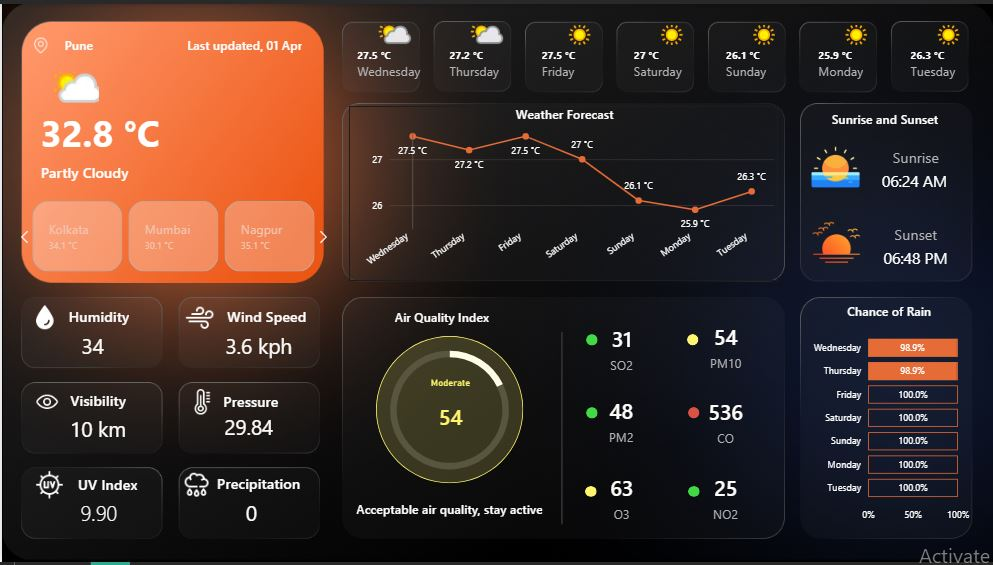

The dashboard page shown, as its layout file describes it:
{"tool":"powerbi","page":{"name":"Page 1","canvas":[1280,720],"ordinal":0},"visuals":[{"type":"donutChart","fields":{"Y":["Sum(Current.current.air_quality.pm10)","_Measures.left_value_PM"]},"box":[450,422.9,254.3,201.4],"z":0},{"type":"shape","box":[482.9,428.6,190,190],"z":1000},{"type":"advancedSlicerVisual","fields":{"Values":["Location.location.name"]},"box":[14.5,248.7,416.4,101.2],"z":2000},{"type":"shape","box":[49.7,114,255.7,103.7],"z":3000},{"type":"shape","box":[49.7,190,336.1,55.5],"z":4000},{"type":"shape","box":[57,26.3,84.7,55.5],"z":5000},{"type":"shape","box":[222.1,26.3,182.6,55.5],"z":6000},{"type":"image","box":[39.5,38,20.5,32.1],"z":7000},{"type":"cardVisual","fields":{"Data":["Min(Current.current.condition.icon)"]},"box":[49.7,70.1,92.1,78.9],"z":8000},{"type":"image","box":[39,497.3,39,33.3],"z":9000},{"type":"shape","box":[62.2,494.5,124.3,33.3],"z":10000},{"type":"image","box":[39,386,33.3,37.6],"z":11000},{"type":"image","box":[231.3,386,47.7,37.6],"z":12000},{"type":"image","box":[39,601.4,44.8,37.6],"z":13000},{"type":"image","box":[227,601.4,47.7,37.6],"z":14000},{"type":"image","box":[237.1,497.3,41.9,33.3],"z":15000},{"type":"shape","box":[78.1,601.4,115.7,37.6],"z":16000},{"type":"shape","box":[53.5,386,144.6,33.3],"z":17000},{"type":"shape","box":[279,386,125.8,33.3],"z":18000},{"type":"shape","box":[268.9,494.5,105.5,36.1],"z":19000},{"type":"shape","box":[268.9,601.4,125.8,34.7],"z":20000},{"type":"card","fields":{"Values":["Sum(Current.current.humidity)"]},"box":[49.2,423.6,135.9,39],"z":21000},{"type":"card","fields":{"Values":["_Measures.Wind_Speed"]},"box":[268.9,423.6,125.8,39],"z":22000},{"type":"card","fields":{"Values":["_Measures.Visibility"]},"box":[69.4,530.6,108.4,39],"z":23000},{"type":"card","fields":{"Values":["Sum(Current.current.pressure_in)"]},"box":[255.9,527.7,125.8,39],"z":24000},{"type":"card","fields":{"Values":["Sum(Current.current.uv)"]},"box":[62.2,639,125.8,39],"z":25000},{"type":"card","fields":{"Values":["Sum(Current.current.precip_in)"]},"box":[274.7,639,94,39],"z":26000},{"type":"advancedSlicerVisual","fields":{"Values":["Forcast_Day.Day_Name"]},"box":[441,26,838.6,88.2],"z":27000},{"type":"lineChart","title":"Weather Forecast ","fields":{"Y":["Sum(Forcast_Day.forecast.forecastday.day.avgtemp_c)"],"Category":["Forcast_Day.Day_Name"]},"box":[448.2,131.6,553.7,225.5],"z":28000},{"type":"shape","box":[1067,131.6,144.6,33.3],"z":29000},{"type":"shape","box":[1120.5,205.3,114.2,44.8],"z":30000},{"type":"shape","box":[1120.5,305.1,117.1,44.8],"z":31000},{"type":"shape","box":[1137.8,174.9,82.4,44.8],"z":32000},{"type":"shape","box":[1137.8,274.7,82.4,44.8],"z":33000},{"type":"image","box":[1033.7,273.3,86.7,68],"z":34000},{"type":"image","box":[1033.7,179.3,83.9,62.2],"z":35000},{"type":"hundredPercentStackedBarChart","title":"Chance of Rain","fields":{"Category":["Forcast_Day.Day_Name"],"Y":["Sum(Forcast_Day.forecast.forecastday.day.daily_chance_of_rain)","Current.Left_value_Rain"]},"box":[1033.7,386,219.8,292],"z":36000},{"type":"shape","box":[495.9,387.5,144.6,33.3],"z":37000},{"type":"card","fields":{"Values":["Sum(Current.current.air_quality.pm10)"]},"box":[883.7,403.5,99.8,75.2],"z":38000},{"type":"card","fields":{"Values":["Sum(Current.current.air_quality.co)"]},"box":[883.7,500.4,99.8,75.2],"z":39000},{"type":"card","fields":{"Values":["Sum(Current.current.air_quality.no2)"]},"box":[883.7,598.7,99.8,75.2],"z":40000},{"type":"card","fields":{"Values":["Sum(Current.current.air_quality.so2)"]},"box":[749.2,406.4,99.8,75.2],"z":41000},{"type":"card","fields":{"Values":["Sum(Current.current.air_quality.pm2_5)"]},"box":[753.6,497.5,91.1,78.1],"z":42000},{"type":"card","fields":{"Values":["Sum(Current.current.air_quality.o3)"]},"box":[749.2,598.7,99.8,75.2],"z":43000},{"type":"shape","box":[884.1,426.4,14.8,14.8],"z":44000},{"type":"shape","box":[884.6,520.5,14.8,14.8],"z":45000},{"type":"shape","box":[884.6,621.3,15.3,14.1],"z":46000},{"type":"shape","box":[754.1,520.2,15.3,15.3],"z":47000},{"type":"shape","box":[754.1,425.9,15.3,15.3],"z":48000},{"type":"shape","box":[752.9,621.3,15.3,14.1],"z":49000},{"type":"shape","box":[648.2,423.5,149.4,248.2],"z":50000},{"type":"card","fields":{"Values":["Sum(Current.current.air_quality.pm10)"]},"box":[517.1,481.4,122.9,91.4],"z":51000},{"type":"shape","box":[450,624.3,254.3,52.9],"z":51001}]}

Visuals, with their boxes in screenshot pixels (x1, y1, x2, y2), scaled from the page's 1280x720 canvas onto the 993x565 screenshot:
donutChart - Sum(Current.current.air_quality.pm10) x _Measures.left_value_PM: 349, 332, 546, 490
shape: 375, 336, 522, 485
advancedSlicerVisual - Location.location.name: 11, 195, 334, 275
shape: 39, 89, 237, 171
shape: 39, 149, 299, 193
shape: 44, 21, 110, 64
shape: 172, 21, 314, 64
image: 31, 30, 47, 55
cardVisual - Min(Current.current.condition.icon): 39, 55, 110, 117
image: 30, 390, 61, 416
shape: 48, 388, 145, 414
image: 30, 303, 56, 332
image: 179, 303, 216, 332
image: 30, 472, 65, 501
image: 176, 472, 213, 501
image: 184, 390, 216, 416
shape: 61, 472, 150, 501
shape: 42, 303, 154, 329
shape: 216, 303, 314, 329
shape: 209, 388, 290, 416
shape: 209, 472, 306, 499
card - Sum(Current.current.humidity): 38, 332, 144, 363
card - _Measures.Wind_Speed: 209, 332, 306, 363
card - _Measures.Visibility: 54, 416, 138, 447
card - Sum(Current.current.pressure_in): 199, 414, 296, 445
card - Sum(Current.current.uv): 48, 501, 146, 532
card - Sum(Current.current.precip_in): 213, 501, 286, 532
advancedSlicerVisual - Forcast_Day.Day_Name: 342, 20, 992, 90
"Weather Forecast " lineChart: 348, 103, 777, 280
shape: 828, 103, 940, 129
shape: 869, 161, 958, 196
shape: 869, 239, 960, 275
shape: 883, 137, 947, 172
shape: 883, 216, 947, 251
image: 802, 214, 869, 268
image: 802, 141, 867, 190
"Chance of Rain" hundredPercentStackedBarChart: 802, 303, 972, 532
shape: 385, 304, 497, 330
card - Sum(Current.current.air_quality.pm10): 686, 317, 763, 376
card - Sum(Current.current.air_quality.co): 686, 393, 763, 452
card - Sum(Current.current.air_quality.no2): 686, 470, 763, 529
card - Sum(Current.current.air_quality.so2): 581, 319, 659, 378
card - Sum(Current.current.air_quality.pm2_5): 585, 390, 655, 452
card - Sum(Current.current.air_quality.o3): 581, 470, 659, 529
shape: 686, 335, 697, 346
shape: 686, 408, 698, 420
shape: 686, 488, 698, 499
shape: 585, 408, 597, 420
shape: 585, 334, 597, 346
shape: 584, 488, 596, 499
shape: 503, 332, 619, 527
card - Sum(Current.current.air_quality.pm10): 401, 378, 496, 449
shape: 349, 490, 546, 531
